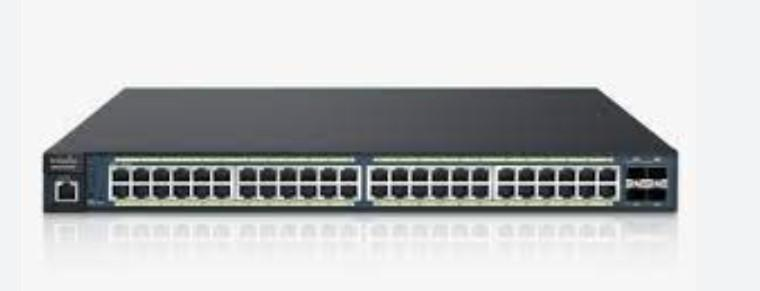NetworkSwitch: (40, 87, 681, 215)
